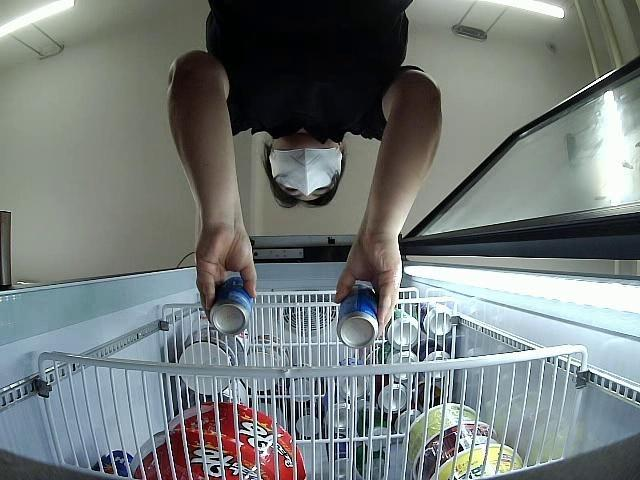15_letsbe: (336, 281, 378, 349), (209, 276, 253, 336)
